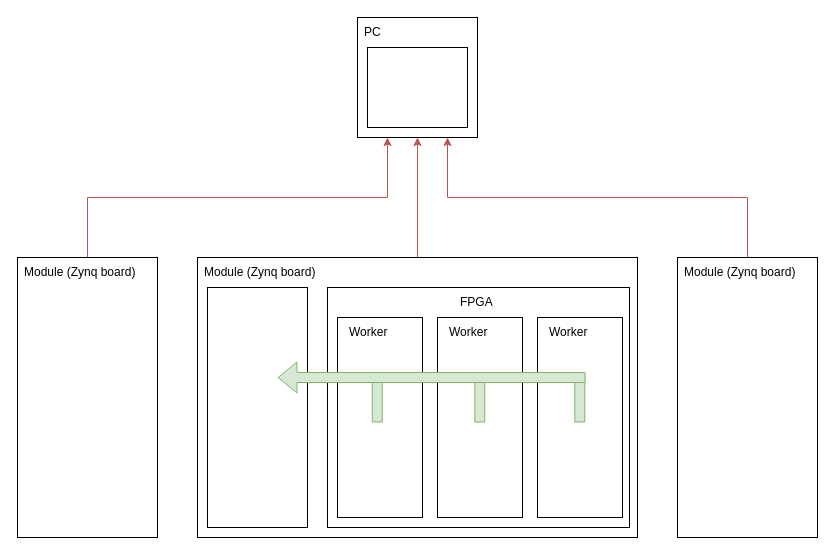
Some shapes in this 835 by 555 pixel diagram are drawn without their labels. Each missing label, with the box of its shape:
Processor: (206, 286, 308, 528)
Python driver: (366, 46, 468, 128)
